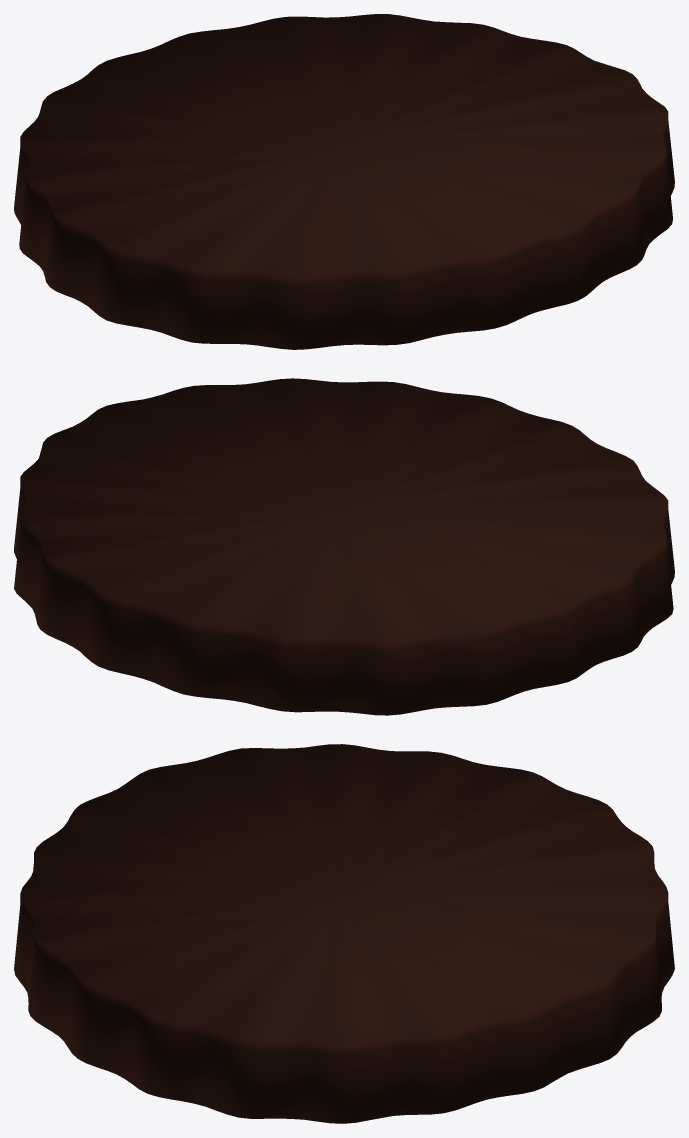
File: recipe-cacao-foundation.glb
3 views of the same model, one above another, from view 1: azimuth 30°, elevation 25°; view 2: azimuth 150°, elevation 25°; view 3: azimuth 270°, elevation 25° (orthographic). The views are drawn at different scales.
Visible parts, largest first — view 1: Round4 cacao mesa exact-foot foundation; view 2: Round4 cacao mesa exact-foot foundation; view 3: Round4 cacao mesa exact-foot foundation.
Part boxes in pixels (bbox=[...]): Round4 cacao mesa exact-foot foundation: bbox=[14, 14, 674, 349]; Round4 cacao mesa exact-foot foundation: bbox=[14, 378, 674, 715]; Round4 cacao mesa exact-foot foundation: bbox=[14, 744, 674, 1123].
Bounding box in the file's own units: 10 × 1.15 × 9.1.
